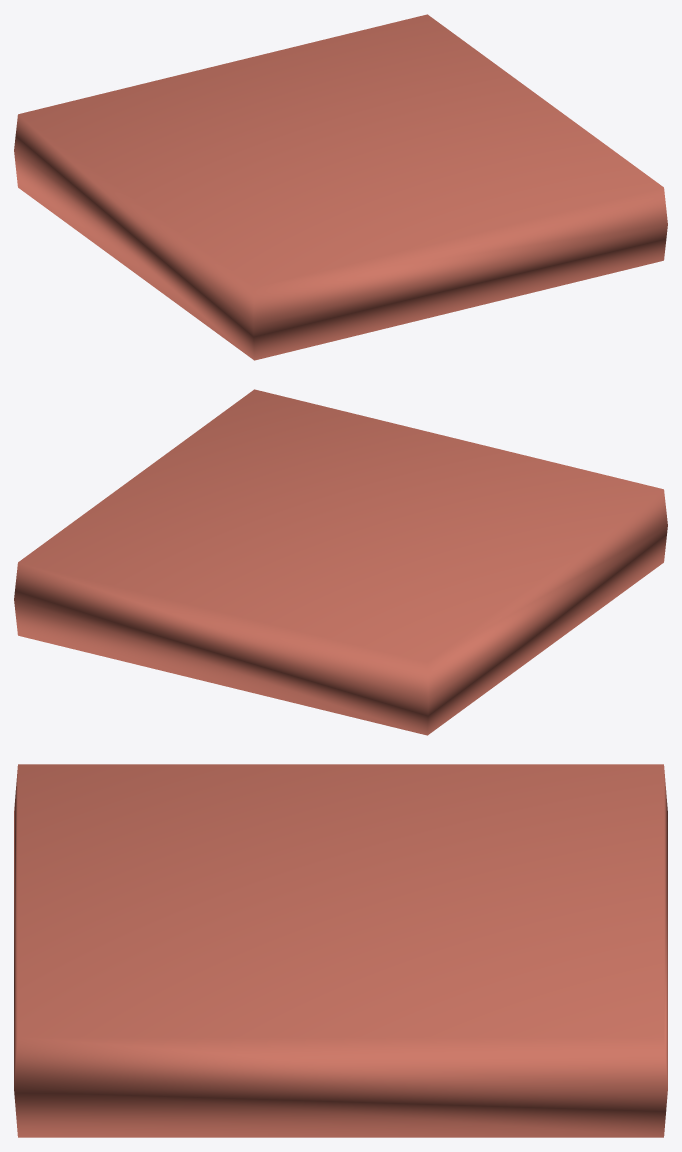
Rendered from Carnita.glb.
The picture shows the model from 3 angles, top to bottom: view 1: azimuth 30°, elevation 25°; view 2: azimuth 150°, elevation 25°; view 3: azimuth 270°, elevation 25°; orthographic projection. The views are drawn at different scales.
Parts seen in each view (by area): view 1: carne; view 2: carne; view 3: carne.
Boxes of the visible parts, left/top/right/bottom form: carne: left=14, top=14, right=667, bottom=360; carne: left=14, top=389, right=667, bottom=735; carne: left=14, top=764, right=667, bottom=1137.
Bounding box in the file's own units: 2.02 × 0.3417 × 2.02.
